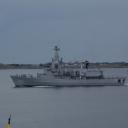Fragata: (11, 42, 128, 89)
